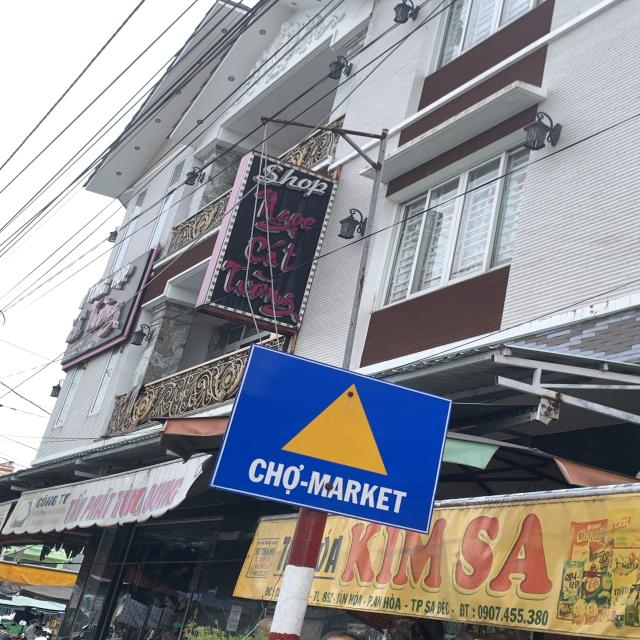Cho_Quay_Xe: (210, 348, 459, 528)
